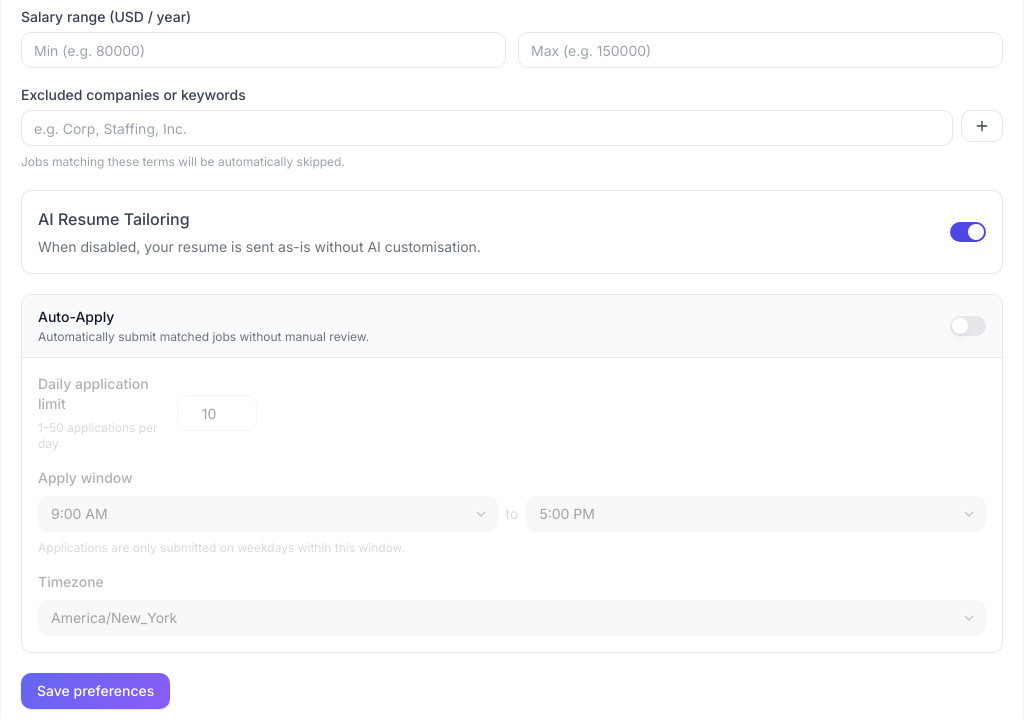
Test case: PreferencesForm › shows success message after saving
The image size is (1024, 720).
(page scrolled)
Step 1. Click the button "Save preferences" → (96, 691), box 21,673 -> 170,709
(page scrolled)
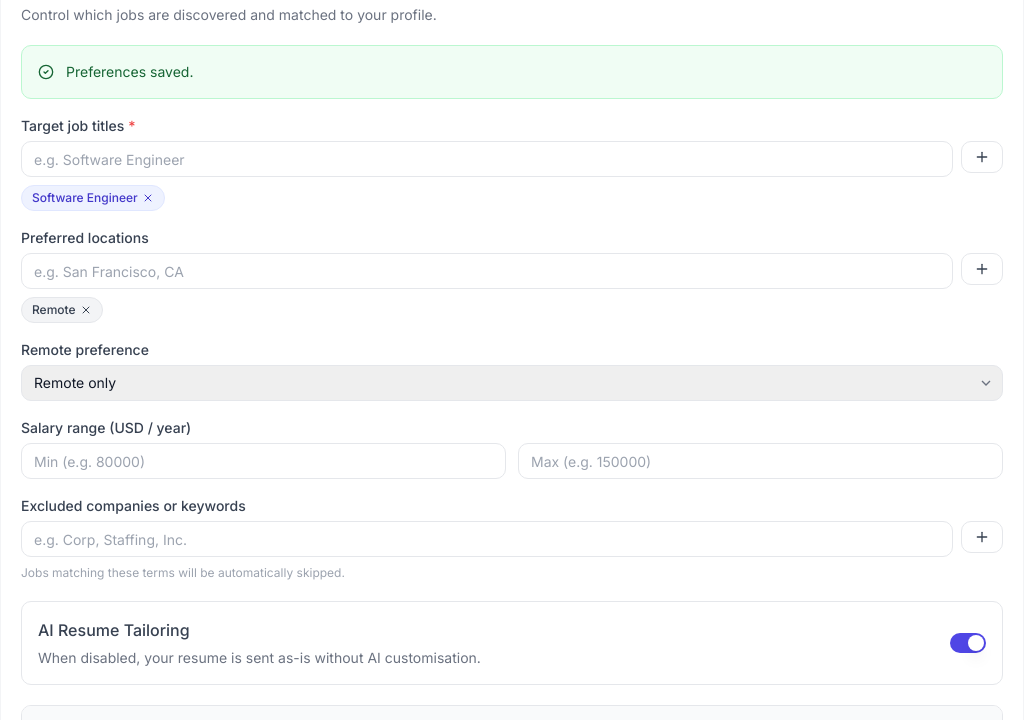
Expected: the text "Preferences saved." is shown, 66,63 -> 194,80
